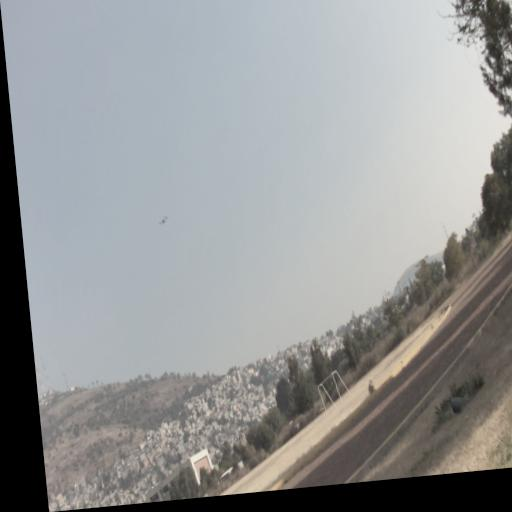drones: (158, 215, 169, 228)
